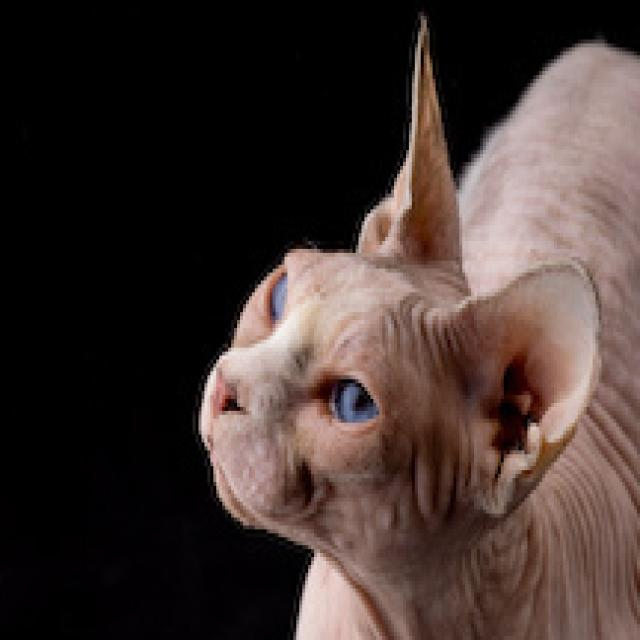Sphynx: (192, 4, 640, 640)
